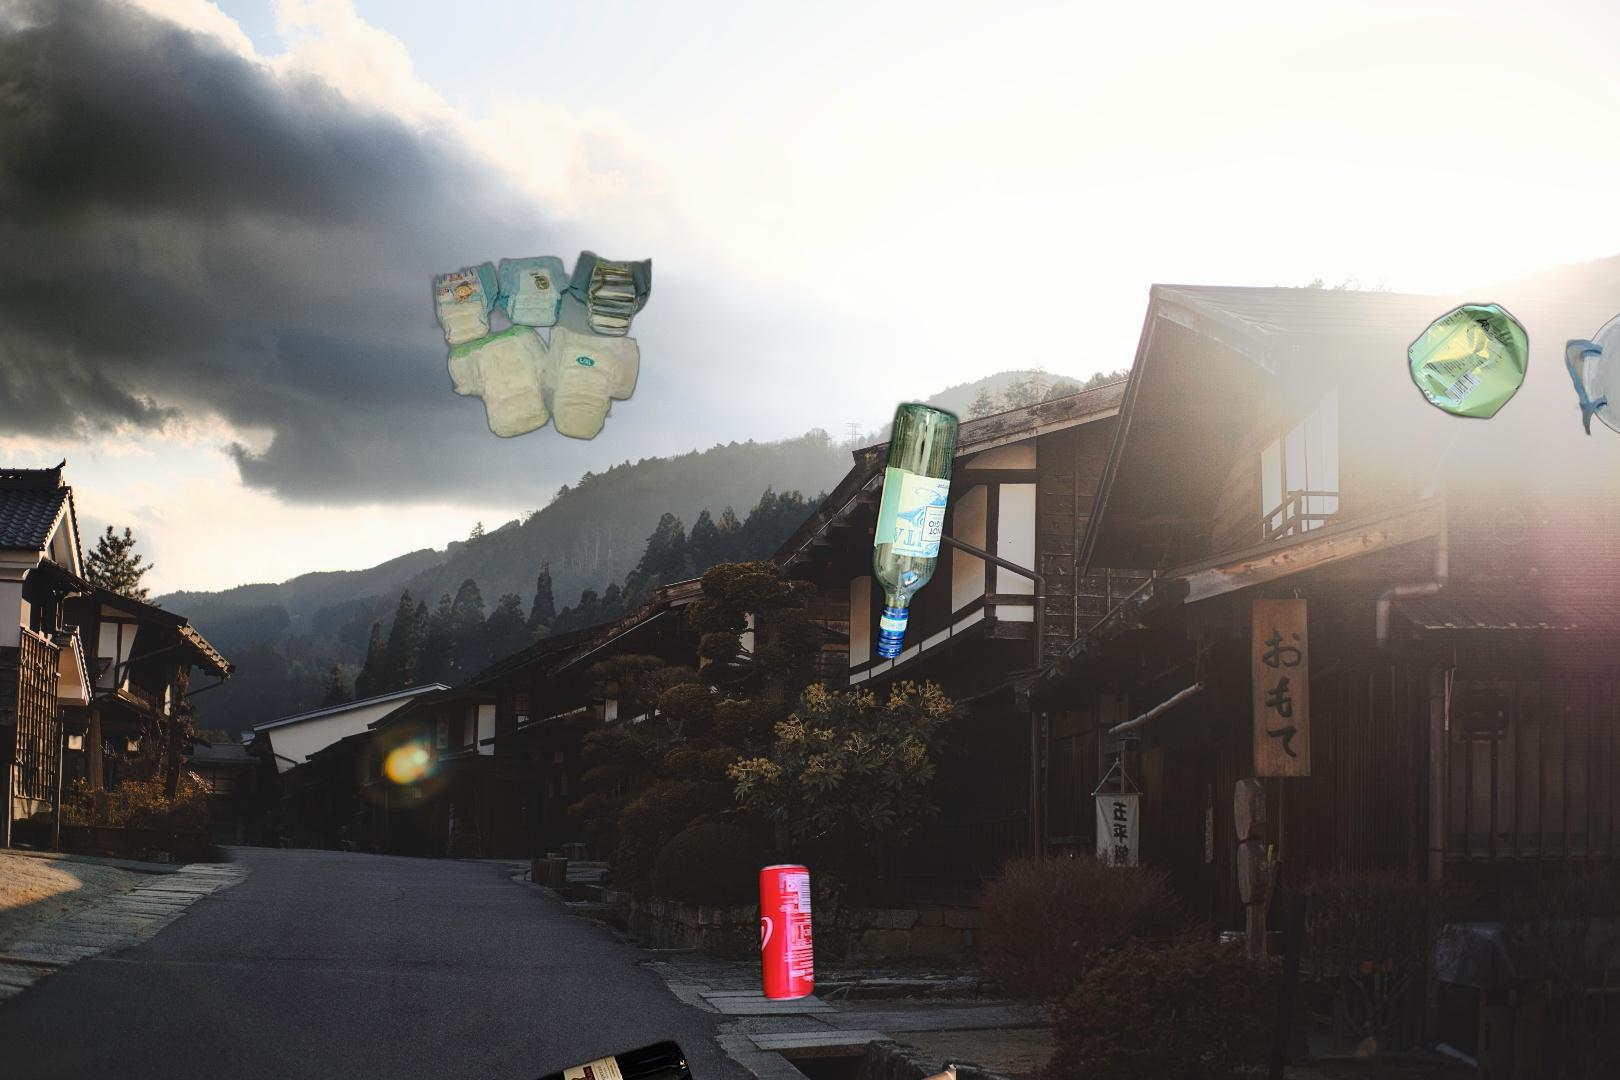glass: (868, 397, 963, 667), (218, 1035, 698, 1080), (458, 1053, 956, 1080)
metal-cans: (1405, 298, 1532, 425), (755, 857, 818, 1006)
plastic-bottles: (1610, 368, 1620, 450)
trash: (428, 248, 653, 444), (1563, 289, 1620, 445)
